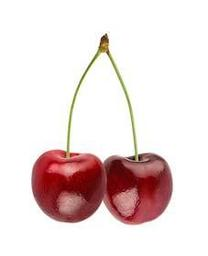cherry: (31, 149, 106, 223), (102, 153, 173, 225)
